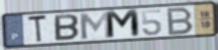5: (140, 8, 163, 36)
B: (166, 6, 195, 37), (53, 14, 80, 43)
M: (104, 8, 142, 40), (78, 10, 113, 40)
T: (26, 14, 49, 45)
